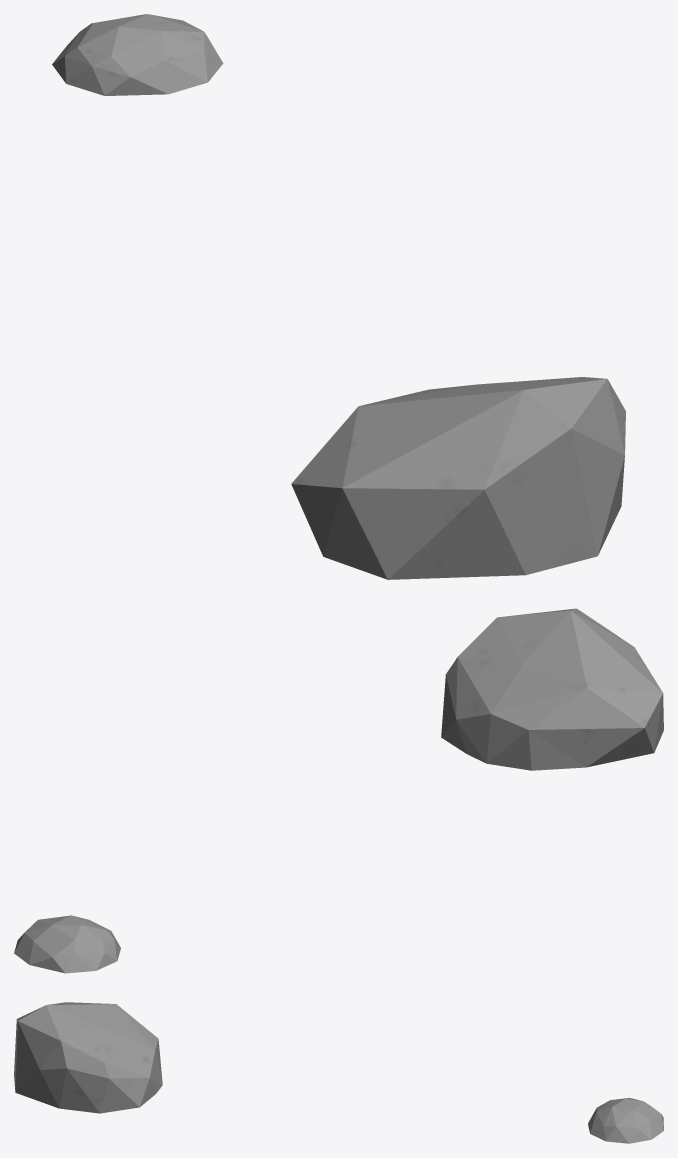
Rendered from Stones4.gltf.
3 renders of one model, top to bottom at view 1: azimuth 30°, elevation 25°; view 2: azimuth 150°, elevation 25°; view 3: azimuth 270°, elevation 25°, orthographic. The views are drawn at different scales.
Parts seen in each view (by area): view 1: Stone4 - copy.003, Stone3 - copy.006; view 2: Stone4 - copy.003, Stone3 - copy.006; view 3: Stone4 - copy.003, Stone3 - copy.006.
Part boxes in pixels (x1,y1,x2,y2): Stone4 - copy.003: [291, 377, 625, 579]; Stone3 - copy.006: [52, 14, 223, 95]; Stone4 - copy.003: [441, 608, 663, 770]; Stone3 - copy.006: [14, 915, 120, 973]; Stone4 - copy.003: [14, 1002, 162, 1113]; Stone3 - copy.006: [588, 1098, 663, 1143].
Size of the model in its own units: 3.19 by 1.07 by 8.13.
2 materials, 2 textured.
